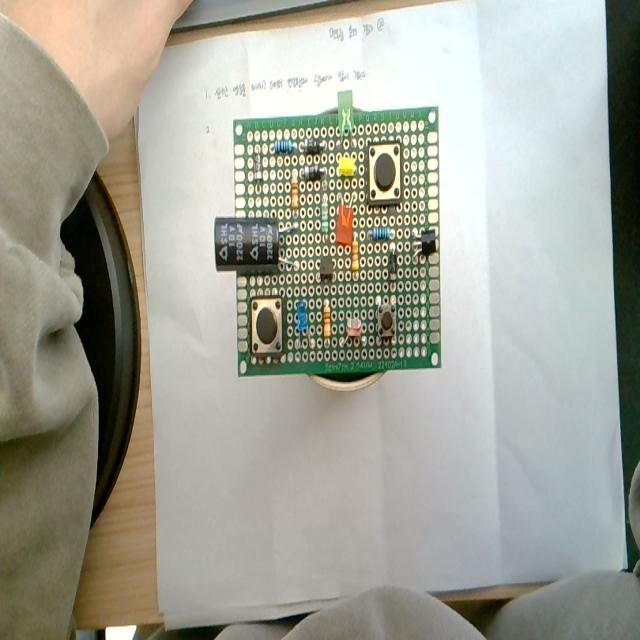Electrolytic capacitor: (215, 217, 282, 270)
cds: (340, 313, 364, 351)
diode: (300, 164, 326, 182), (302, 138, 325, 156), (388, 244, 397, 282), (252, 150, 262, 182)
led: (292, 295, 314, 356), (336, 86, 356, 152), (336, 202, 354, 247), (338, 156, 354, 177)
resistor: (273, 139, 294, 154), (323, 300, 331, 339), (371, 226, 391, 241), (321, 197, 328, 232), (292, 172, 298, 209), (352, 238, 358, 273)
switch: (367, 142, 402, 206), (250, 297, 284, 358), (376, 301, 396, 342)
transistor: (411, 226, 437, 268), (314, 250, 340, 289)
